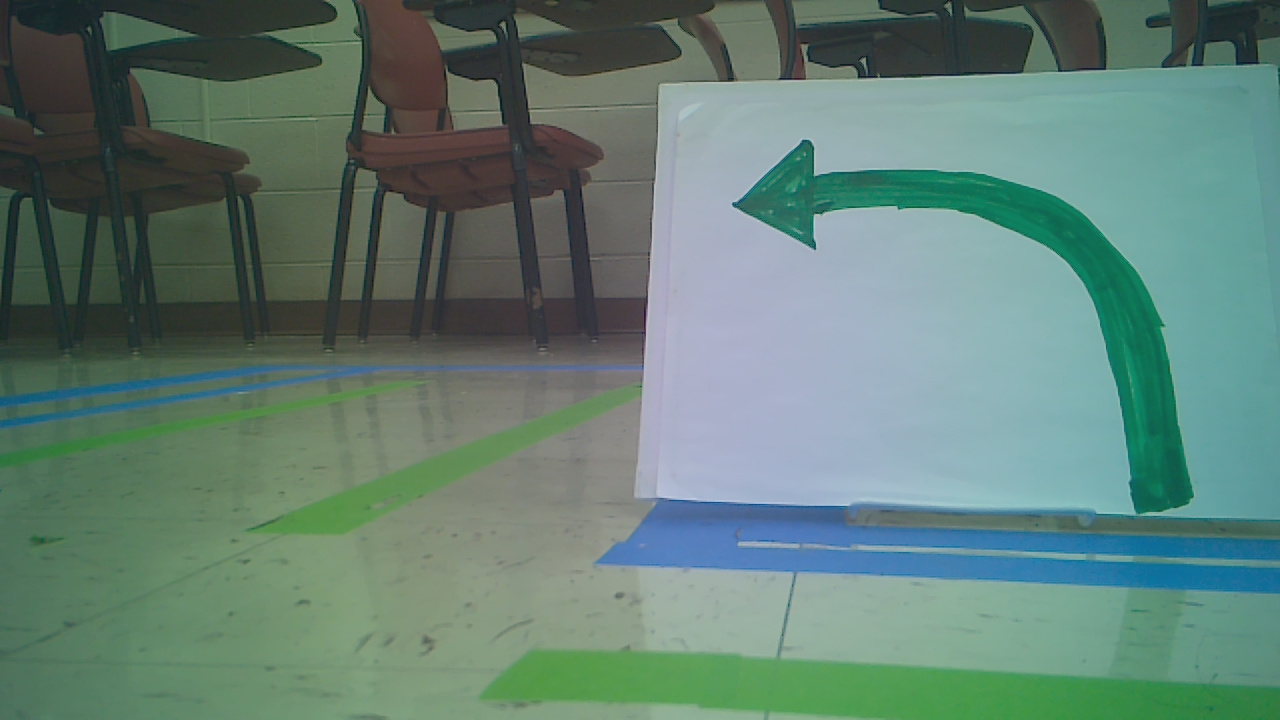greenline: (485, 638, 1269, 720), (259, 381, 647, 537), (3, 374, 424, 468)
left: (711, 135, 1200, 516)
